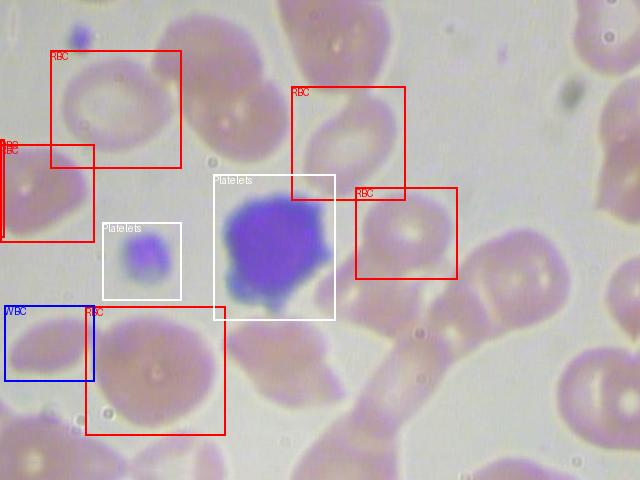Platelets: (213, 174, 335, 320), (102, 222, 181, 300)
RBC: (85, 306, 225, 435), (50, 50, 181, 168), (291, 86, 405, 200), (355, 187, 457, 279), (0, 144, 94, 242), (0, 139, 4, 237)
WBC: (4, 305, 94, 381)
